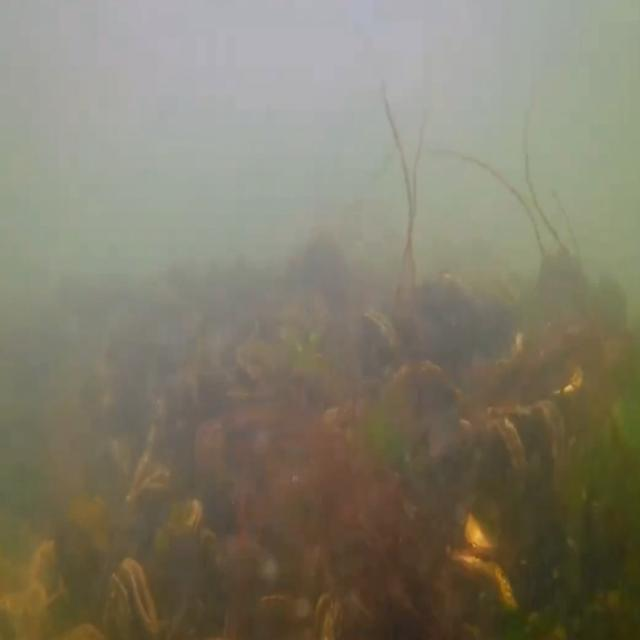Oyster-Closed: (360, 307, 402, 413), (156, 496, 205, 546)
Oyster-Indeterminate: (373, 362, 468, 449), (482, 399, 568, 484), (455, 414, 528, 507), (446, 546, 522, 609), (462, 509, 514, 556), (126, 458, 177, 500)
Oyster-Open: (101, 557, 160, 640), (312, 591, 341, 640)
